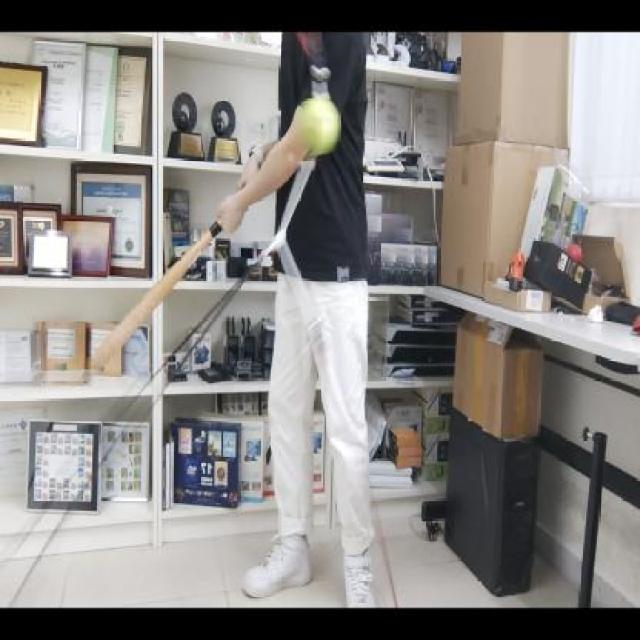baseball: (296, 90, 342, 158)
